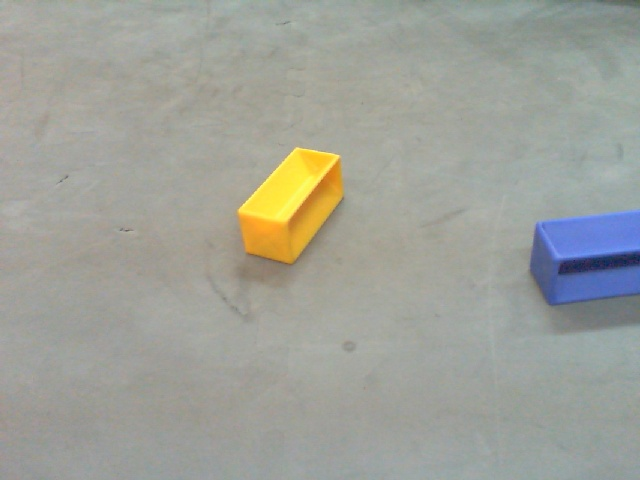BlueSample: (526, 204, 640, 310)
YellowSample: (234, 143, 349, 274)
